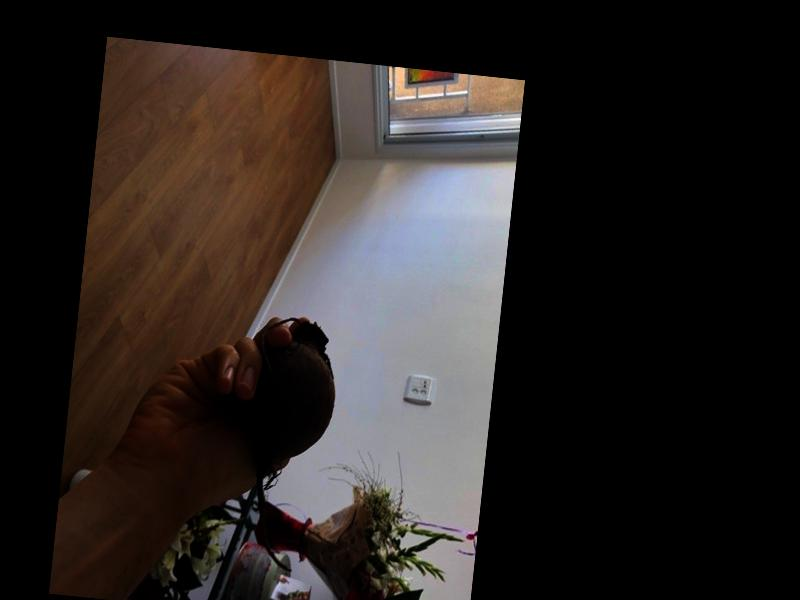Beet: (229, 314, 342, 573)
